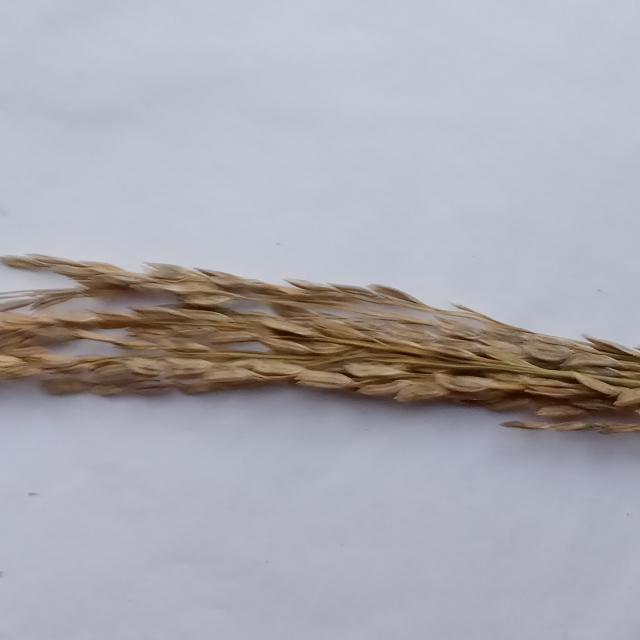Neck_Blast: (0, 246, 640, 438)
